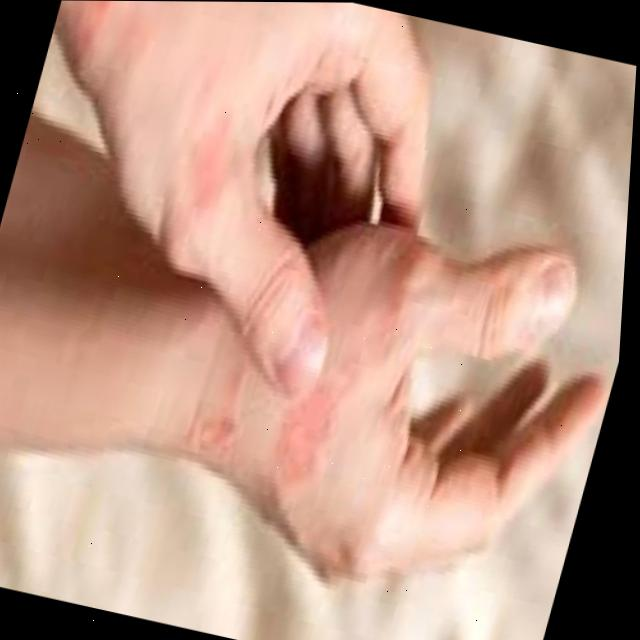Eczema: (245, 362, 361, 515), (165, 92, 279, 216)
